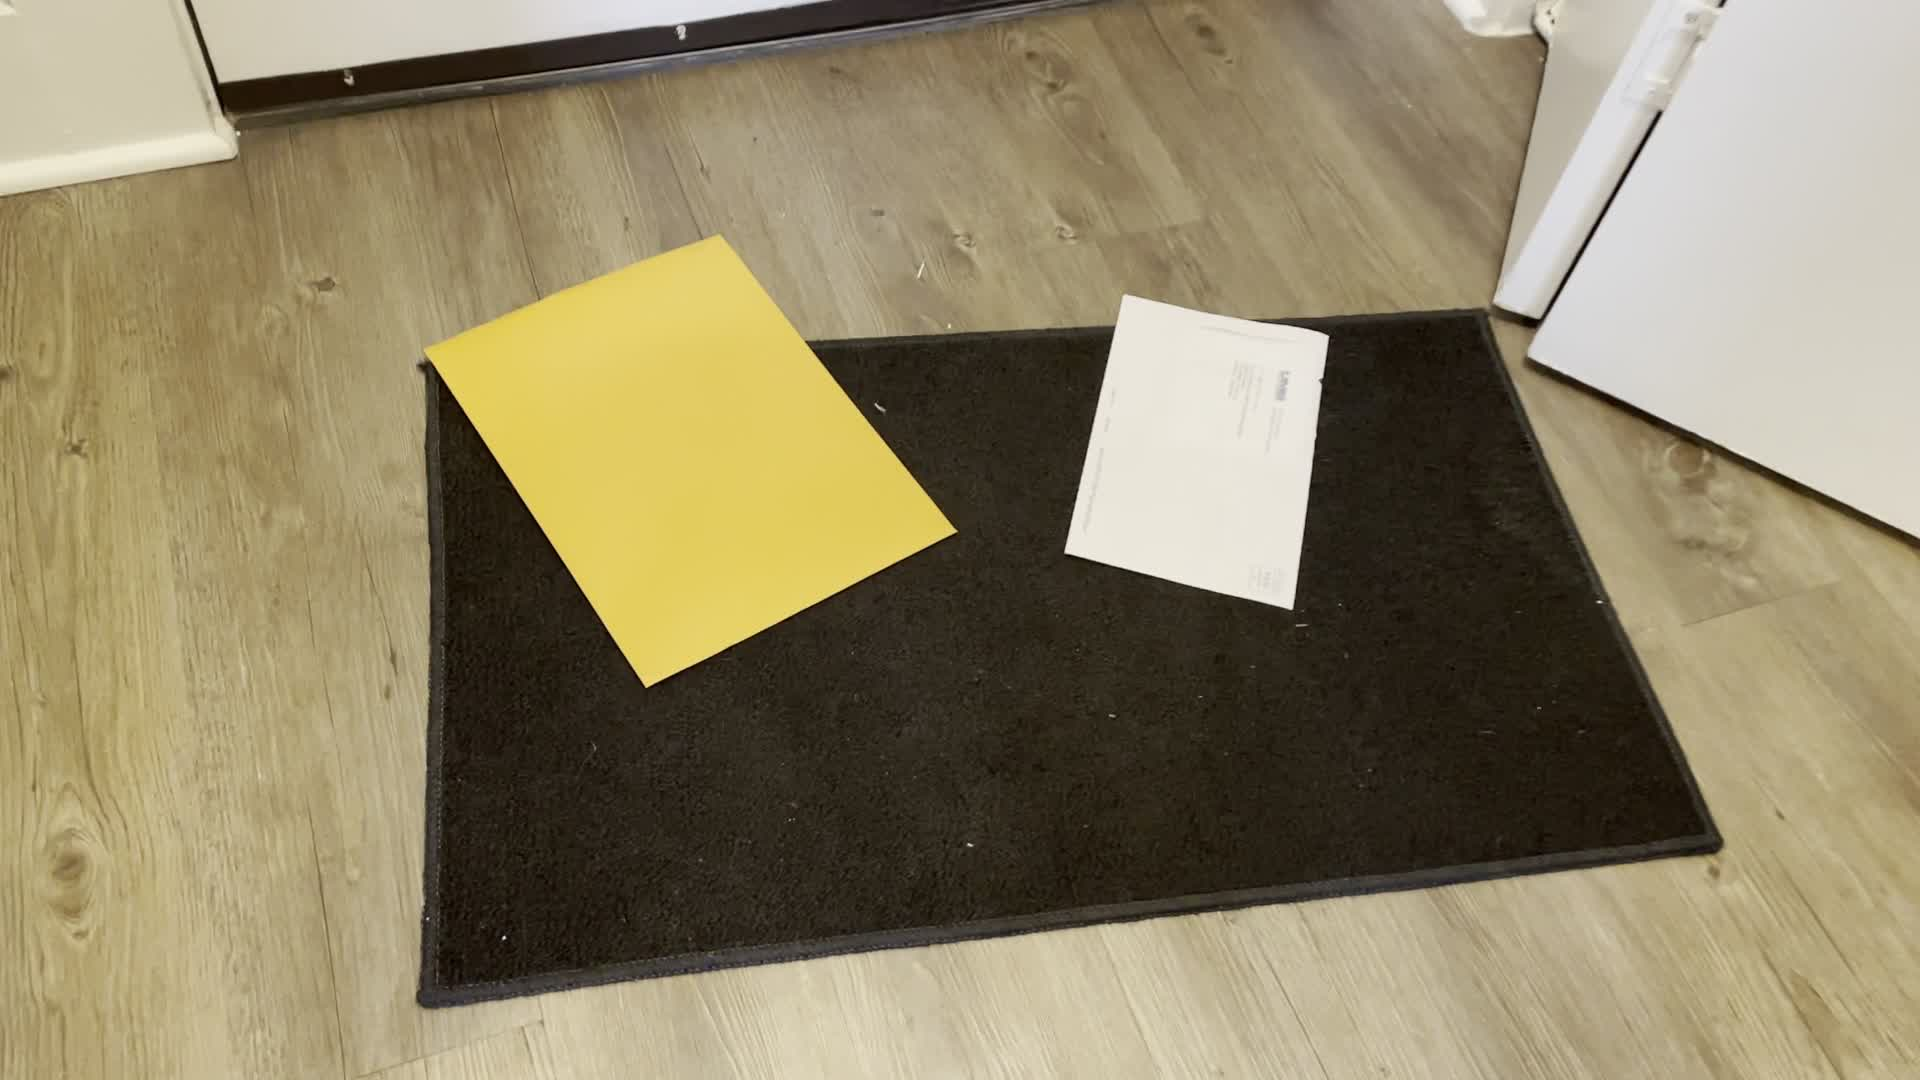envelope: (433, 220, 957, 698), (1056, 284, 1341, 620)
